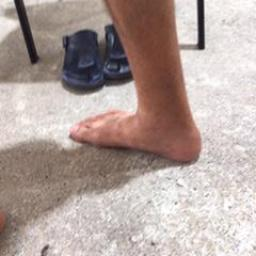Medial View -Right Foot-: (63, 91, 210, 175)
